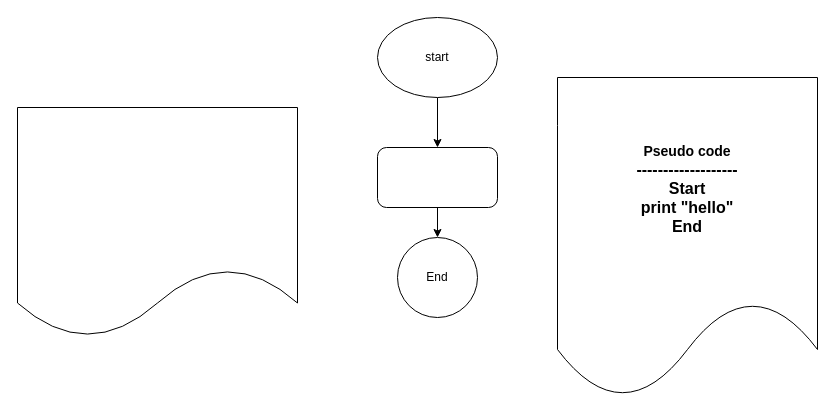
Some shapes in this 835 by 415 pixel diagram are drawn without their labels. Each missing label, with the box of its shape:
Print: Hallo: (376, 146, 498, 208)
this Process shall be written in Python!: (16, 106, 298, 338)
